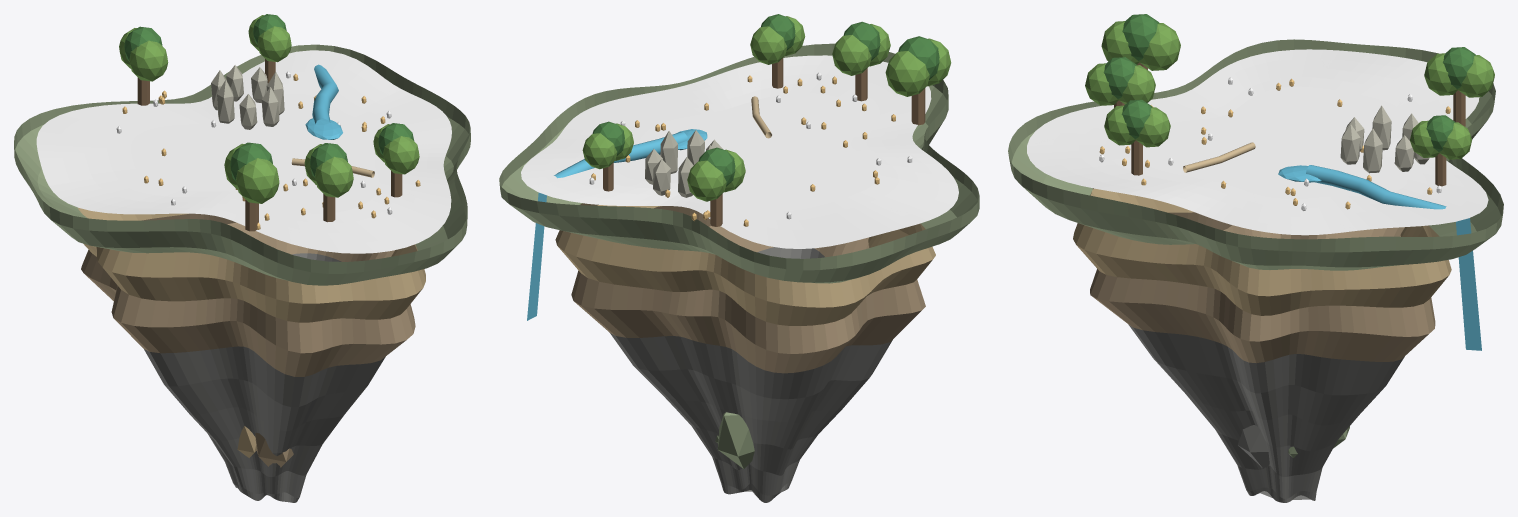
Rendered from FI-004-Sunmote-Commons.glb.
3 renders of one model, left to right at view 1: azimuth 30°, elevation 25°; view 2: azimuth 150°, elevation 25°; view 3: azimuth 270°, elevation 25°, orthographic. The views are drawn at different scales.
Visible parts, largest first — view 1: FI-004_StratifiedFloatingCliff, FI-004_BuildableTop, OrchardTree_00_Canopy_00, OrchardTree_01_Canopy_00, OrchardTree_03_Canopy_00, OrchardTree_02_Canopy_00, OrchardTree_04_Canopy_00, MeadowCreek, OrchardTree_00_Canopy_01, StandingStone_02, SpringPool, OrchardTree_01_Canopy_01 (+4 smaller); view 2: FI-004_StratifiedFloatingCliff, FI-004_BuildableTop, OrchardTree_00_Canopy_02, FI-004_RootShoulder_00, OrchardTree_01_Canopy_02, OrchardTree_03_Canopy_02, OrchardTree_02_Canopy_02, WaterfallSheet, MeadowCreek, OrchardTree_04_Canopy_02, OrchardTree_00_Canopy_01, OrchardTree_01_Canopy_01 (+6 smaller); view 3: FI-004_StratifiedFloatingCliff, FI-004_BuildableTop, MeadowCreek, WaterfallSheet, OrchardTree_00_Canopy_02, OrchardTree_00_Canopy_01, OrchardTree_03_Canopy_02, OrchardTree_02_Canopy_02, OrchardTree_01_Canopy_02, OrchardTree_01_Canopy_01, OrchardTree_03_Canopy_01, OrchardTree_00_Canopy_00 (+13 smaller).
Part boxes in pixels (box(x1,y1,x2,y2)): FI-004_StratifiedFloatingCliff: box(14, 44, 470, 502); FI-004_BuildableTop: box(36, 50, 451, 253); OrchardTree_00_Canopy_00: box(236, 158, 279, 203); OrchardTree_01_Canopy_00: box(315, 156, 353, 197); OrchardTree_03_Canopy_00: box(129, 40, 168, 81); OrchardTree_02_Canopy_00: box(383, 136, 419, 174); OrchardTree_04_Canopy_00: box(257, 26, 291, 62); MeadowCreek: box(312, 64, 338, 123); OrchardTree_00_Canopy_01: box(230, 142, 272, 181); StandingStone_02: box(217, 79, 234, 123); SpringPool: box(305, 118, 342, 139); OrchardTree_01_Canopy_01: box(310, 143, 347, 177); FI-004_StratifiedFloatingCliff: box(499, 43, 979, 502); FI-004_BuildableTop: box(521, 55, 958, 248); OrchardTree_00_Canopy_02: box(885, 51, 929, 96); FI-004_RootShoulder_00: box(717, 412, 754, 468); OrchardTree_01_Canopy_02: box(832, 35, 871, 75); OrchardTree_03_Canopy_02: box(687, 160, 726, 201); OrchardTree_02_Canopy_02: box(750, 26, 786, 64); WaterfallSheet: box(527, 192, 546, 320); MeadowCreek: box(554, 132, 687, 178); OrchardTree_04_Canopy_02: box(582, 133, 617, 169); OrchardTree_00_Canopy_01: box(898, 36, 939, 79); OrchardTree_01_Canopy_01: box(843, 21, 880, 60); FI-004_StratifiedFloatingCliff: box(1008, 39, 1503, 502); FI-004_BuildableTop: box(1027, 49, 1488, 235); MeadowCreek: box(1306, 165, 1446, 209); WaterfallSheet: box(1456, 218, 1481, 350); OrchardTree_00_Canopy_02: box(1139, 23, 1180, 70); OrchardTree_00_Canopy_01: box(1122, 14, 1159, 60); OrchardTree_03_Canopy_02: box(1458, 55, 1494, 97); OrchardTree_02_Canopy_02: box(1136, 107, 1170, 147); OrchardTree_01_Canopy_02: box(1119, 65, 1155, 104); OrchardTree_01_Canopy_01: box(1103, 57, 1136, 98); OrchardTree_03_Canopy_01: box(1443, 47, 1475, 88); OrchardTree_00_Canopy_00: box(1101, 21, 1139, 64).
Size of the model in its own units: 12.29 by 12.25 by 12.74.
